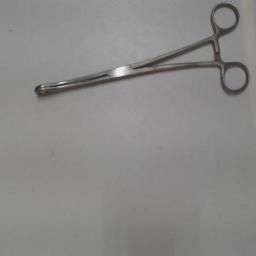Sponge Forceps: (28, 0, 252, 102)
